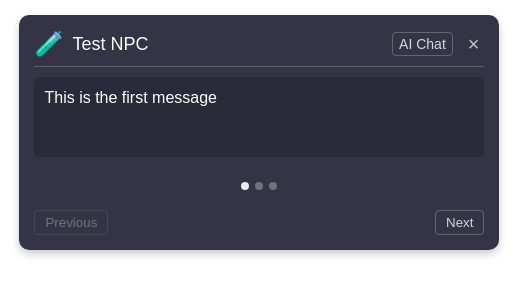
Test: ConversationModal › should toggle between scripted and AI conversation modes
Expected: the text "This is the first message" is shown, [34,77,484,157]
Note: Find and click the AI mode toggle button
Click the button "AI Chat".
click(422, 44)  # box [392,32,453,56]
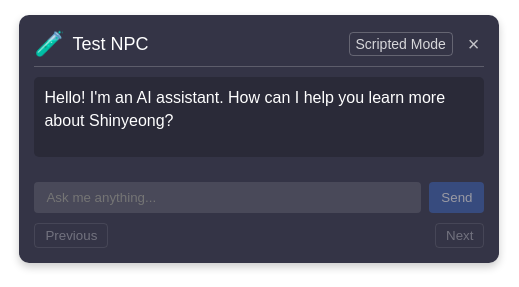
Expected: the text "Hello! I'm an AI assistant. How can I help you learn more about Shinyeong?" is shown, [34,77,484,157]
Expected: the button "Scripted Mode" is shown
Note: Toggle back to scripted mode
Click the button "Scripted Mode".
click(401, 44)  # box [348,32,453,56]
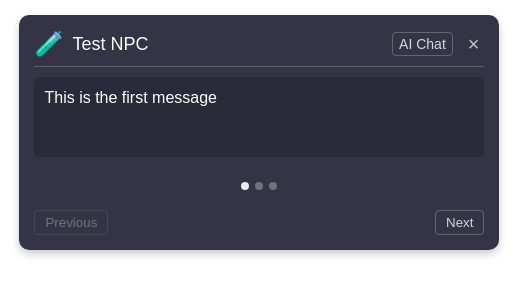
Expected: the text "This is the first message" is shown, [34,77,484,157]
